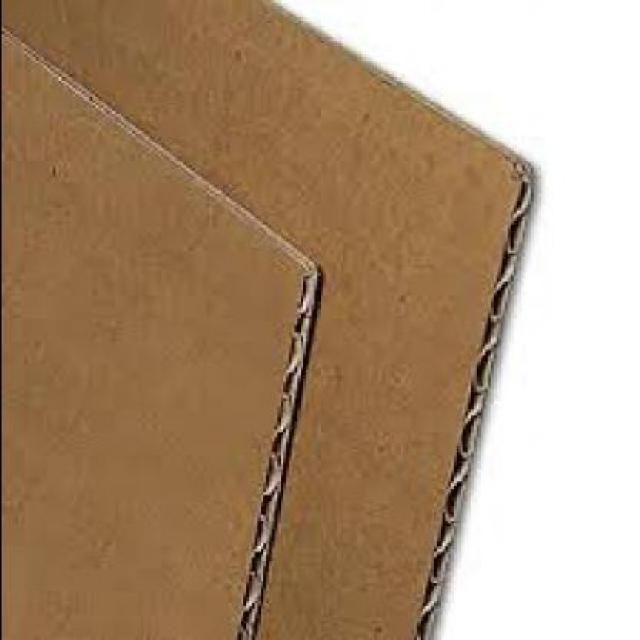box: (1, 0, 529, 638), (2, 25, 316, 639)
